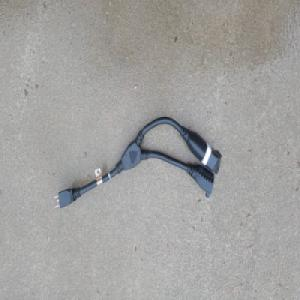Wire: (52, 113, 222, 211)
